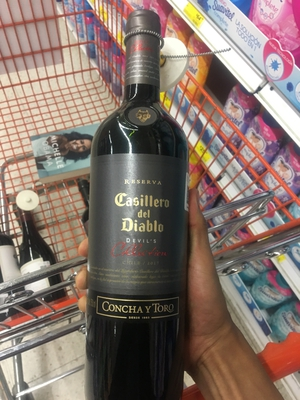casillero del diablo devils collection rojo: (79, 21, 199, 389)
